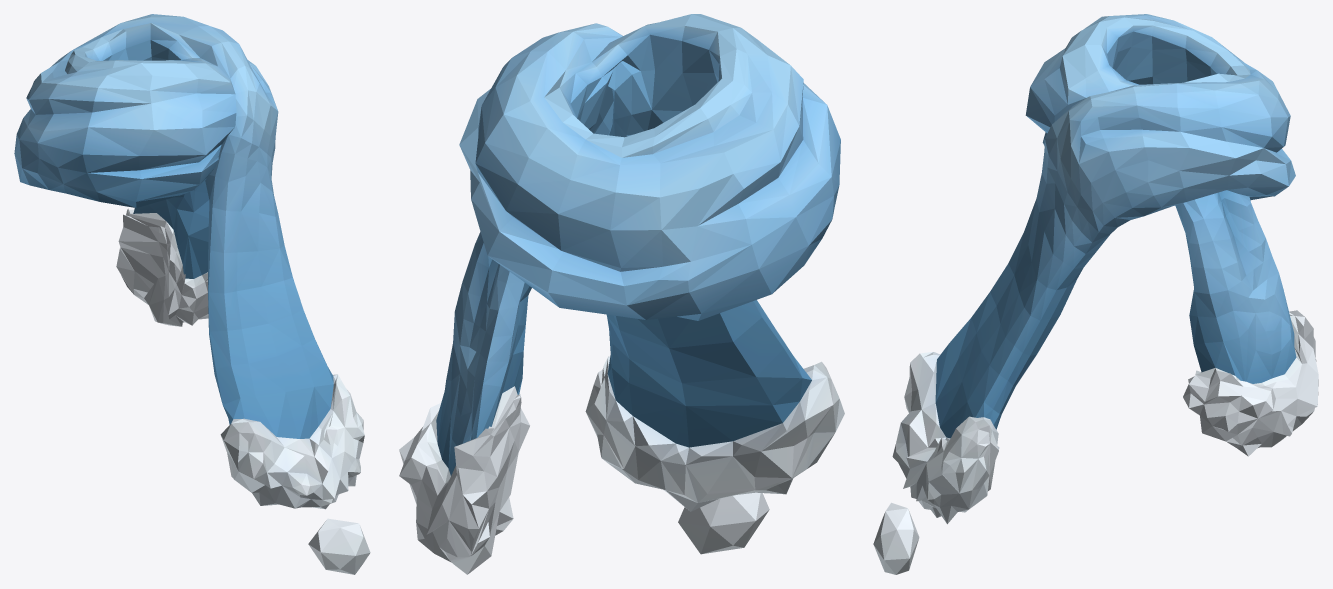
The model's file is CharSkyKid_Wing_FeastScarf.glb.
The picture shows the model from 3 angles, left to right: view 1: azimuth 30°, elevation 25°; view 2: azimuth 150°, elevation 25°; view 3: azimuth 270°, elevation 25°; orthographic projection. The views are drawn at different scales.
Visible parts, largest first — view 1: CharSkyKid_Wing_FeastScarf; view 2: CharSkyKid_Wing_FeastScarf; view 3: CharSkyKid_Wing_FeastScarf.
Part boxes in pixels (<box>): CharSkyKid_Wing_FeastScarf: <box>14,14,370,574</box>; CharSkyKid_Wing_FeastScarf: <box>399,14,844,574</box>; CharSkyKid_Wing_FeastScarf: <box>873,14,1318,574</box>.
Size of the model in its own units: 3.54 by 6.32 by 5.19.
1 material, 1 textured.
